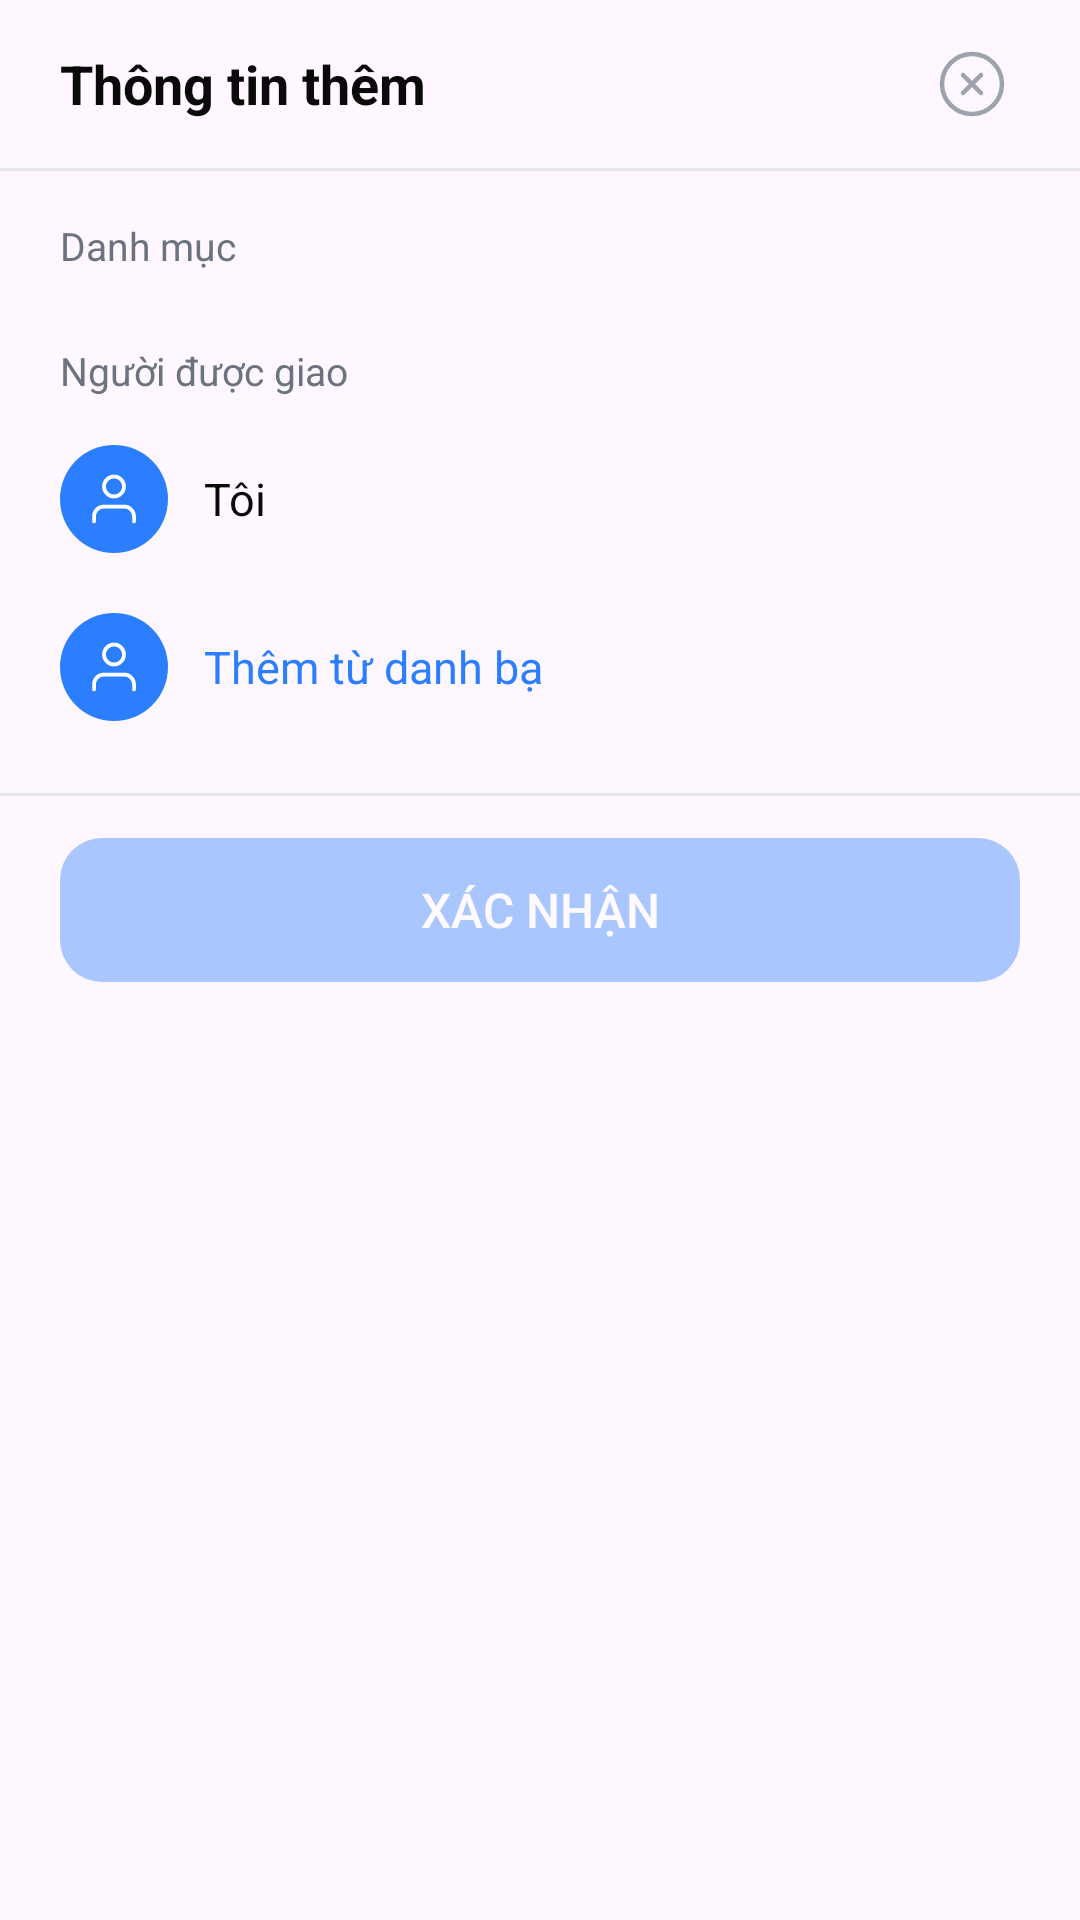

Named icons in this screenshot (1080 × 1920) and their centers, (x,y):
user: (114,499), (114,667)
